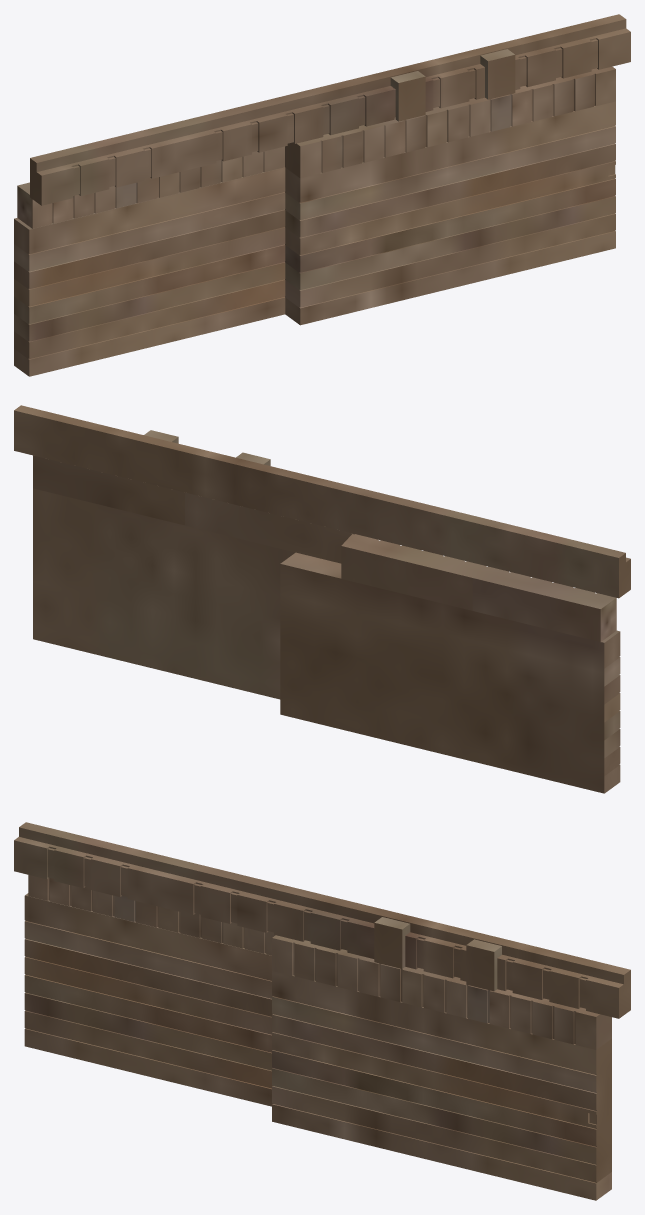
Rendered from xi_dsp_army_gate.gltf.
3 views of the same model, one above another, from view 1: azimuth 30°, elevation 25°; view 2: azimuth 150°, elevation 25°; view 3: azimuth 330°, elevation 25° (orthographic). The views are drawn at different scales.
Visible parts, largest first — view 1: xi_dsp_army_gate; view 2: xi_dsp_army_gate; view 3: xi_dsp_army_gate.
Boxes of the visible parts, x1,y1,x2,y2 form: xi_dsp_army_gate: (14,14,630,376); xi_dsp_army_gate: (14,405,630,793); xi_dsp_army_gate: (14,822,630,1200).
Bounding box in the file's own units: 9.09 × 3.21 × 0.8145.
1 material, 1 textured.
